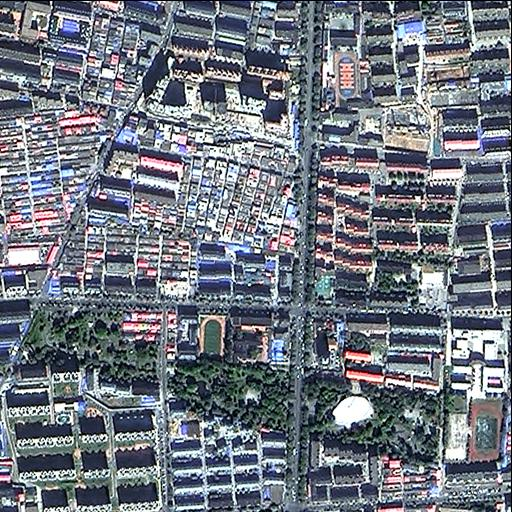school: (321, 1, 372, 108), (195, 312, 271, 369)
